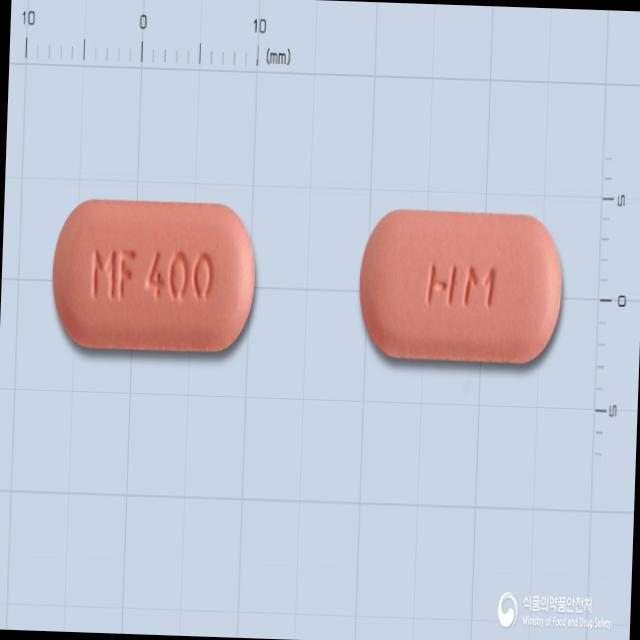Moroxacin: (49, 196, 258, 354), (357, 208, 565, 364)
